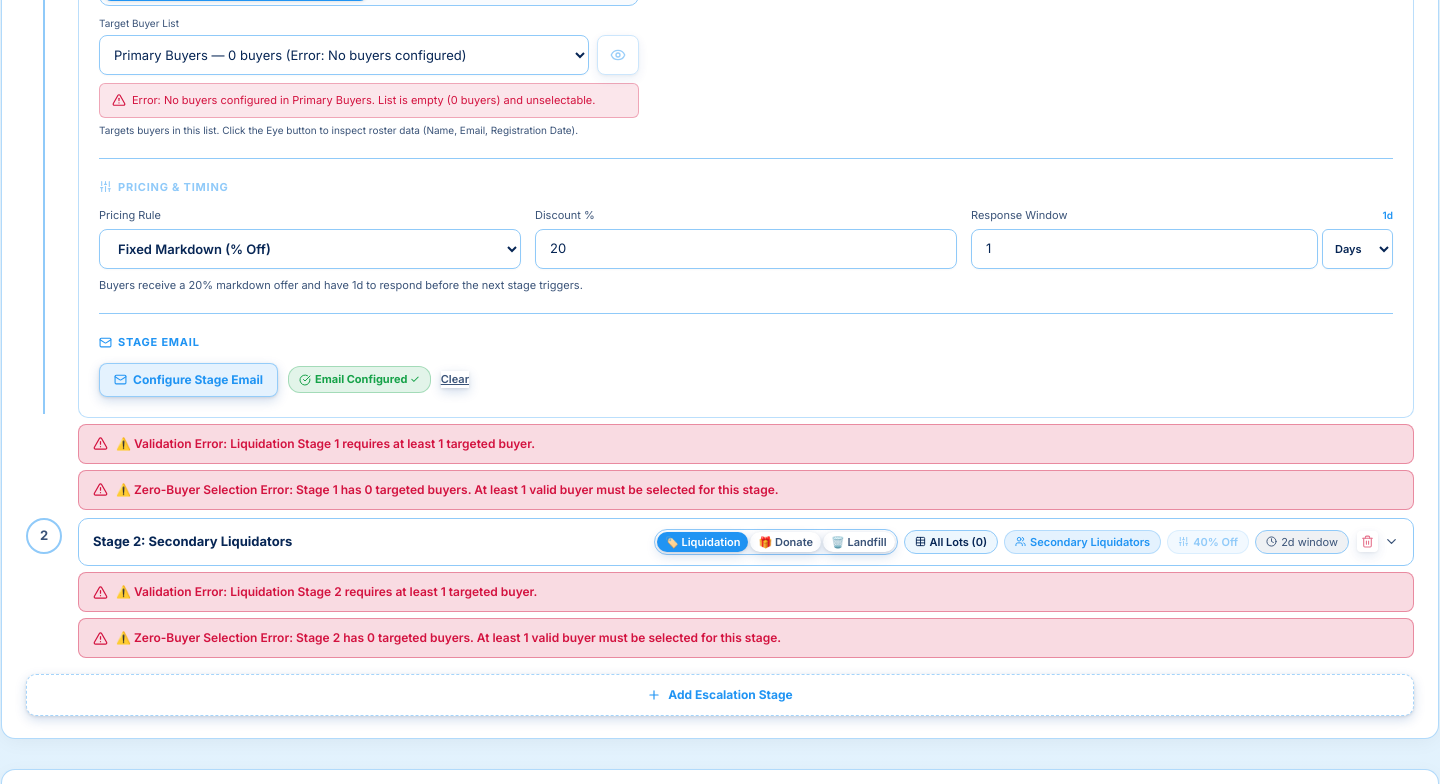
Test: StageEmailModal — Seam E: per-stage isolation through LiquidationAutomationStudio › clicking "Configure Stage Email" on Stage 1 opens modal for Stage 1
(page scrolled)
Click the button "Configure Stage Email".
click(188, 380)  # box [99, 362, 278, 396]
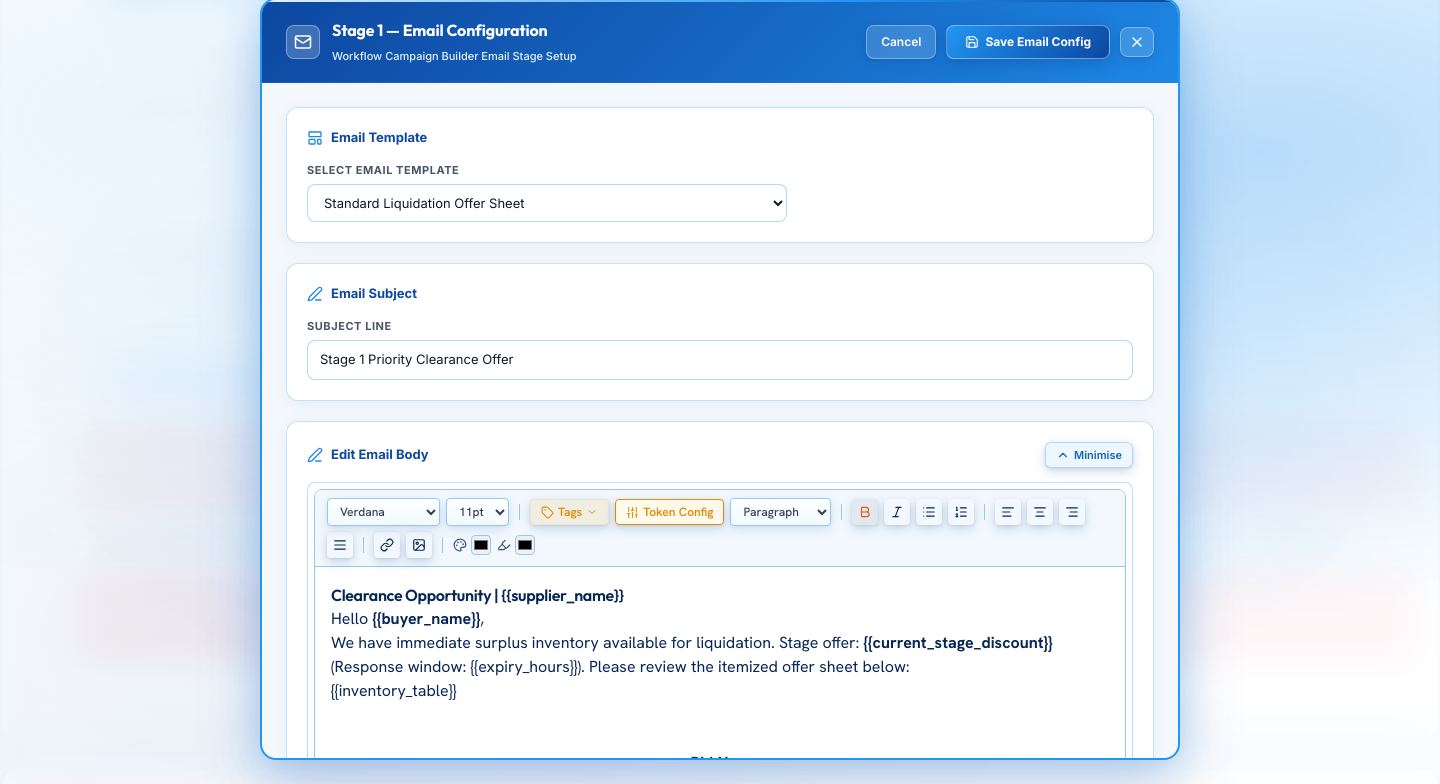
Result: the dialog shows "Email Configuration" at [383, 20, 548, 40]
